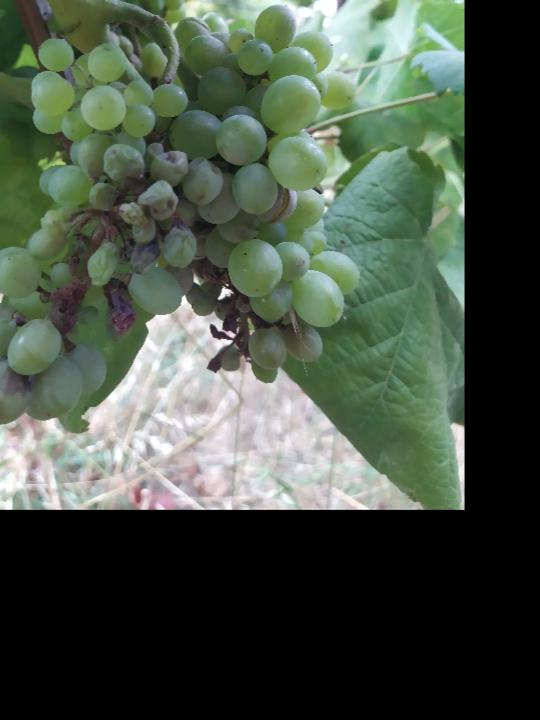grape: (0, 1, 365, 428)
